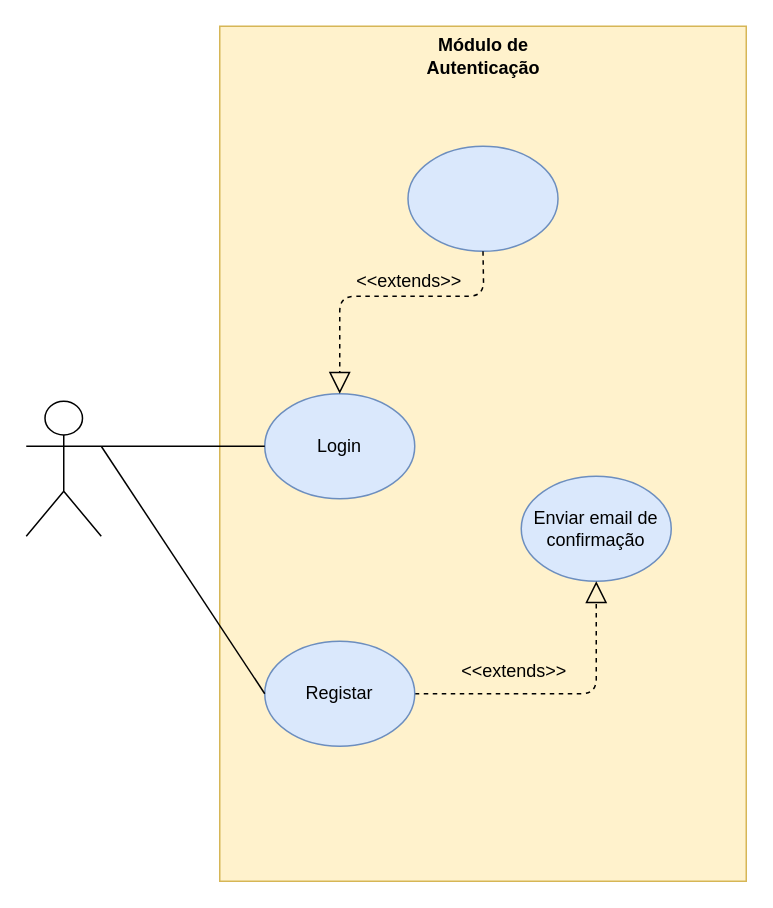
Image size: 773x908. Some labels were removed from this diagram. Here are the shapes that lost their labels. From the top down, the centre of each, then its label:
At (x=482, y=198): "Recuperar palavra-passe".
At (x=63, y=468): "Utilizador".
